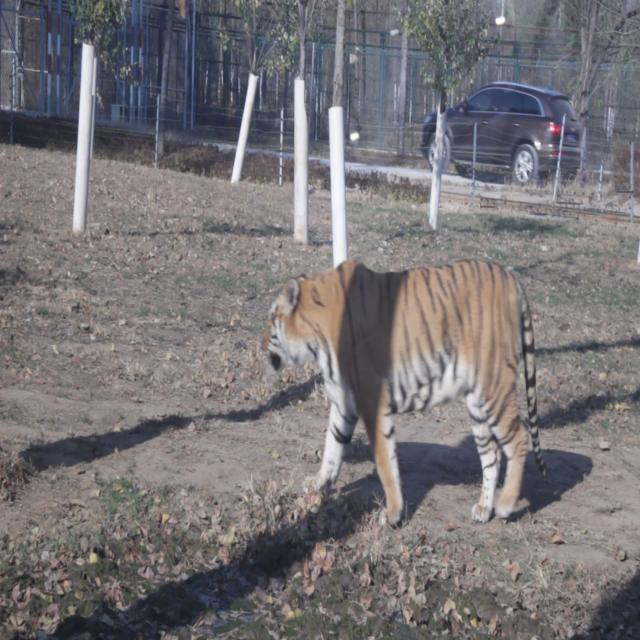Tiger: (239, 234, 562, 546)
